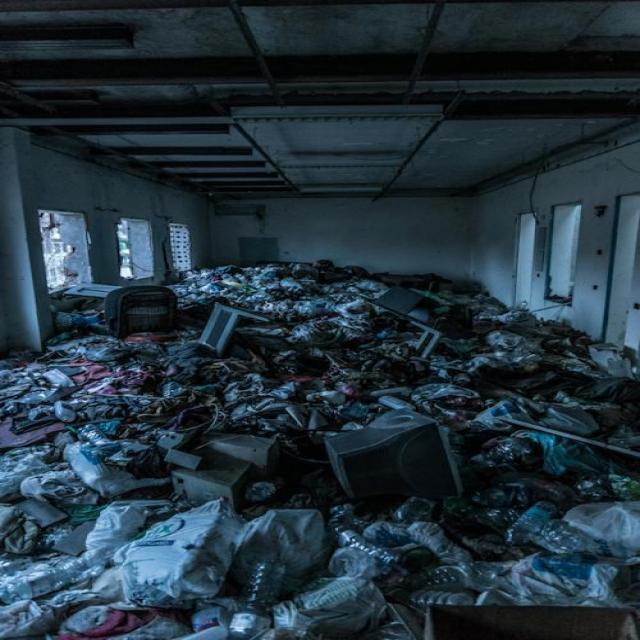trash: (82, 255, 573, 620), (297, 400, 490, 514)
